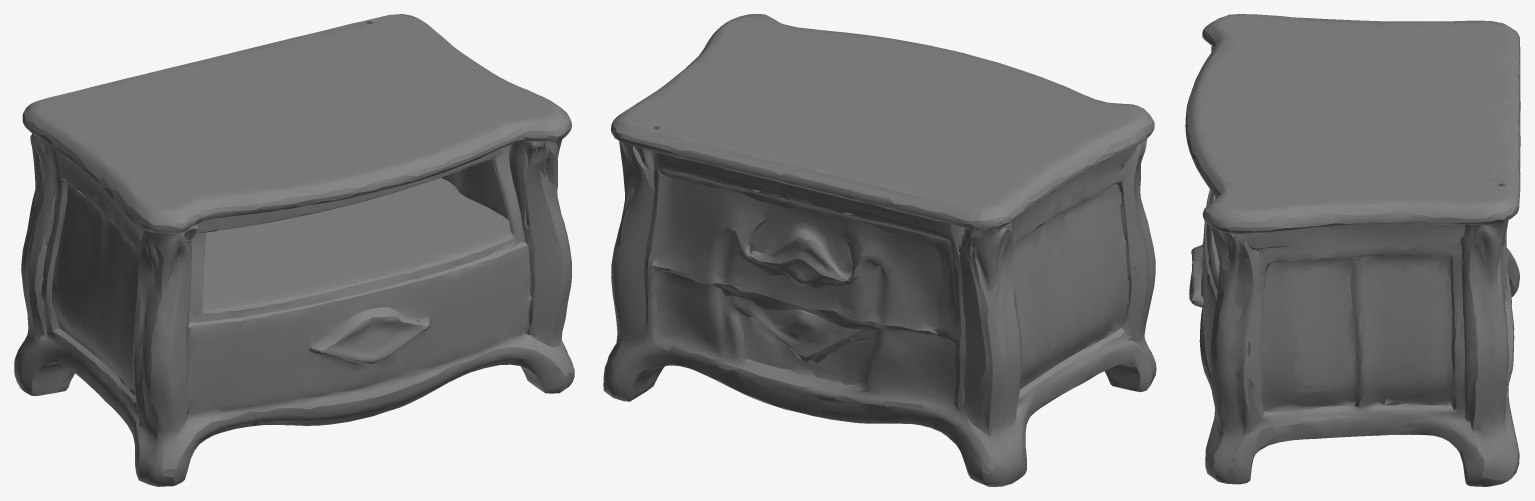
File: completion_cabinet_1.glb
The picture shows the model from 3 angles, left to right: view 1: azimuth 30°, elevation 25°; view 2: azimuth 150°, elevation 25°; view 3: azimuth 270°, elevation 25°; orthographic projection.
Parts seen in each view (by area): view 1: geometry_0; view 2: geometry_0; view 3: geometry_0.
Boxes of the visible parts, x1,y1,x2,y2 form: geometry_0: (14,14,574,486); geometry_0: (603,14,1156,486); geometry_0: (1185,14,1520,486).
Bounding box in the file's own units: 1 × 0.6268 × 0.6837.
1 material, 1 textured.
